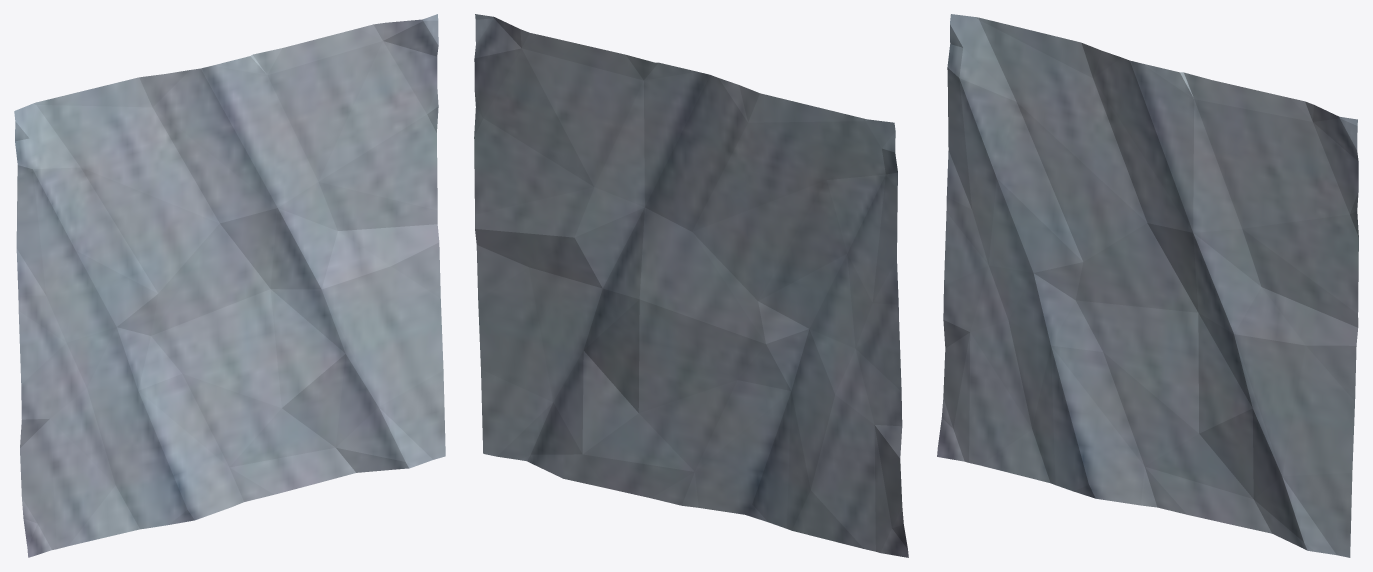
File: Tile_+003_+008_L24_0002320.obj
The picture shows the model from 3 angles, left to right: view 1: azimuth 30°, elevation 25°; view 2: azimuth 150°, elevation 25°; view 3: azimuth 330°, elevation 25°; orthographic projection. The views are drawn at different scales.
Size of the model in its own units: 0.9531 by 0.9531 by 0.0831.
Materials: 1 (1 with a texture image).
